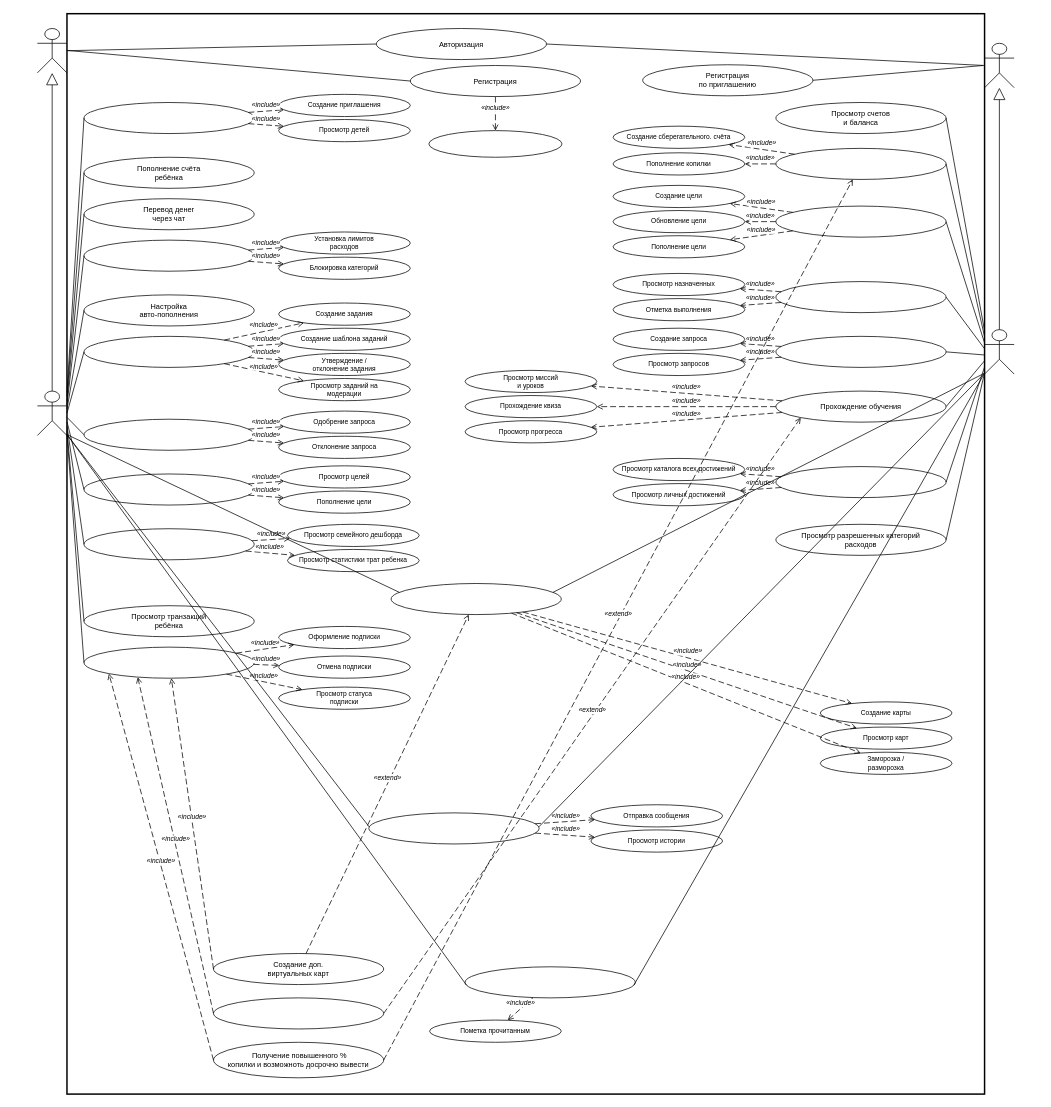
Image size: 1051x1107. Some labels were removed from this diagram. The shapes that lost their labels are listed below. From the top down, each one's box as (x1, y1, x2, y2) in pixels, then its label:
(37, 28, 67, 73): Неавторизованный родитель
(984, 43, 1014, 88): Неавторизованный ребёнок
(83, 102, 254, 134): Управление семьёй
(428, 130, 562, 157): Создание семьи
(775, 148, 946, 179): Управление копилкой
(775, 205, 946, 237): Управление вишлистом
(83, 239, 254, 271): Осуществление финансового контроля
(775, 281, 946, 313): Выполнение заданий
(83, 336, 254, 367): Управление заданиями
(775, 336, 946, 367): Запрос денег у родителя
(984, 329, 1014, 374): Ребёнок
(37, 390, 67, 435): Родитель
(83, 418, 254, 450): Рассмотрение запросов на деньги
(83, 473, 254, 505): Просмотр вишлиста ребёнка
(775, 466, 946, 498): Просмотр достижений
(83, 528, 254, 560): Получение аналитики и отчетов
(390, 583, 561, 615): Управление виртуальными картами
(83, 646, 254, 678): Управление подпиской
(368, 812, 539, 844): Просмотр семейного чата
(464, 966, 635, 998): Просмотр увеомлений
(213, 997, 384, 1029): Полный доступ к квизам
